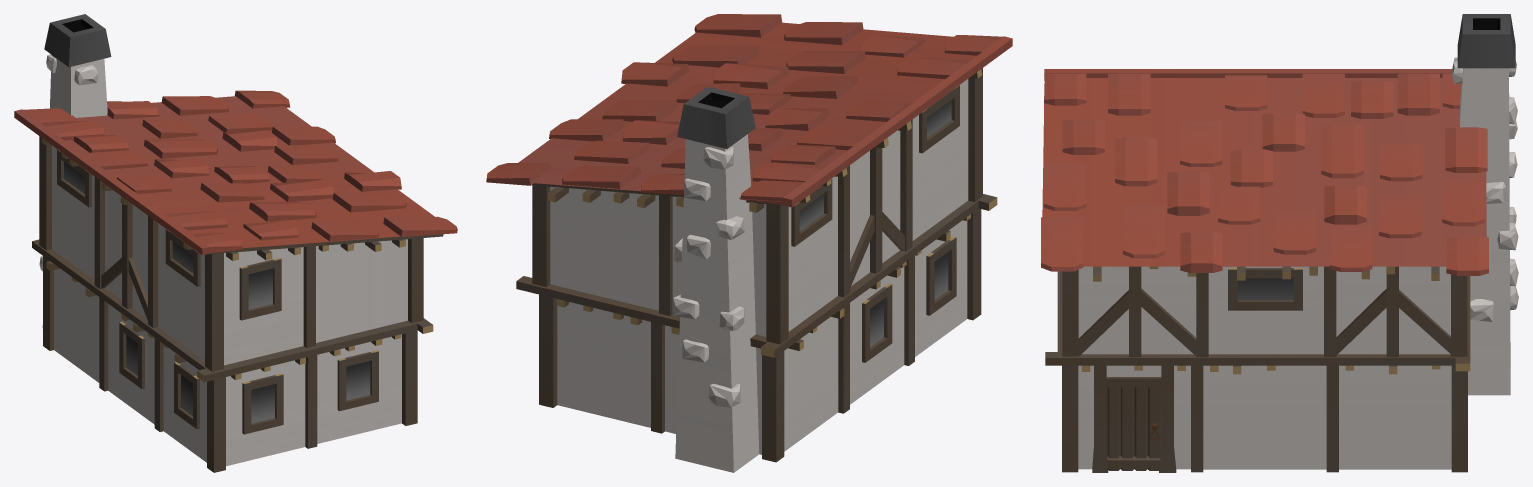
The model's file is House_7.fbx.
3 views of the same model, side by side, from view 1: azimuth 30°, elevation 25°; view 2: azimuth 150°, elevation 25°; view 3: azimuth 270°, elevation 25° (orthographic). The views are drawn at different scales.
Parts seen in each view (by area): view 1: polySurface9616; view 2: polySurface9616; view 3: polySurface9616.
Part boxes in pixels (x1,y1,x2,y2): polySurface9616: (14,14,457,472); polySurface9616: (486,14,1012,472); polySurface9616: (1041,14,1518,472).
Size of the model in its own units: 841 by 929 by 1128.
